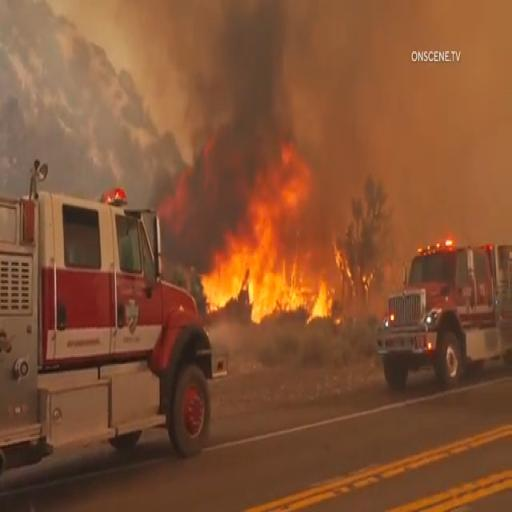fire: (203, 160, 327, 328)
smoke: (210, 14, 344, 142)
